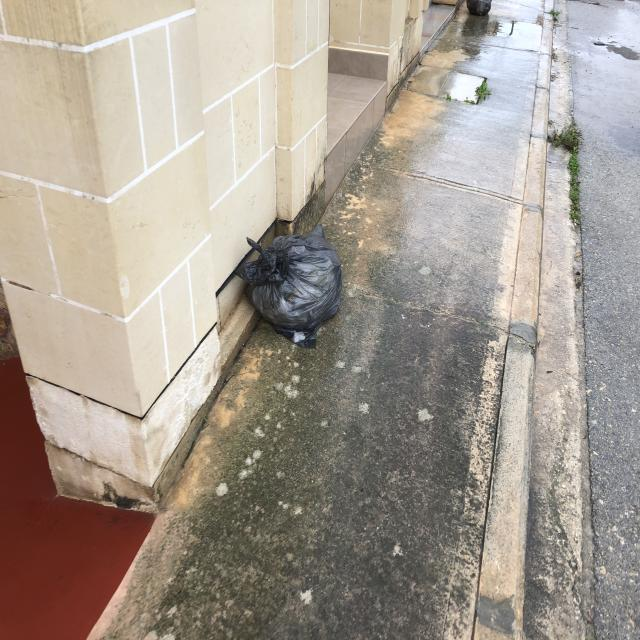Mixed Waste -Black Bag-: (236, 222, 345, 352)
